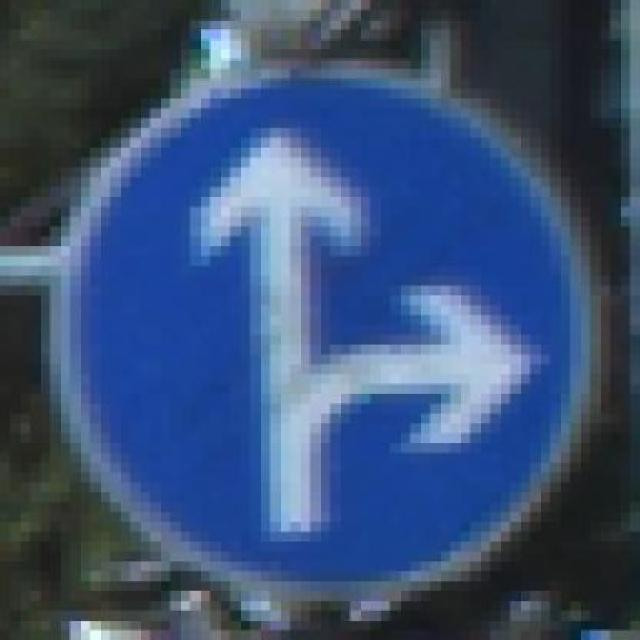Go Straight or Turn Right: (40, 69, 600, 600)
